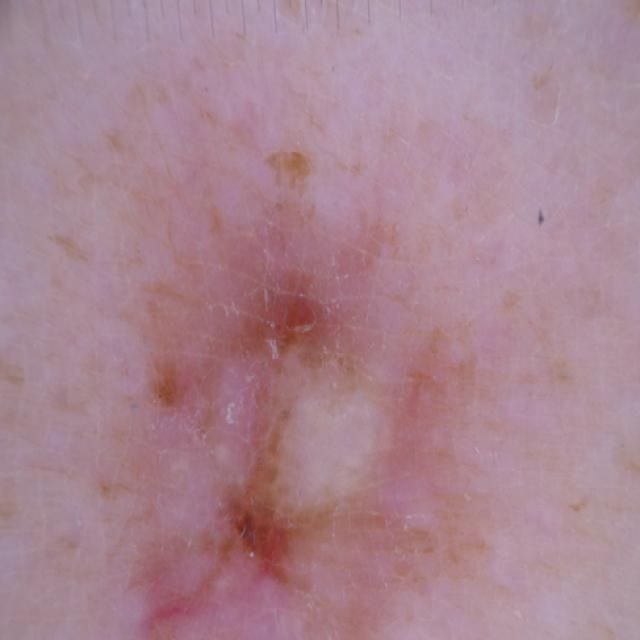Dermatofibroma: (106, 141, 474, 624)
